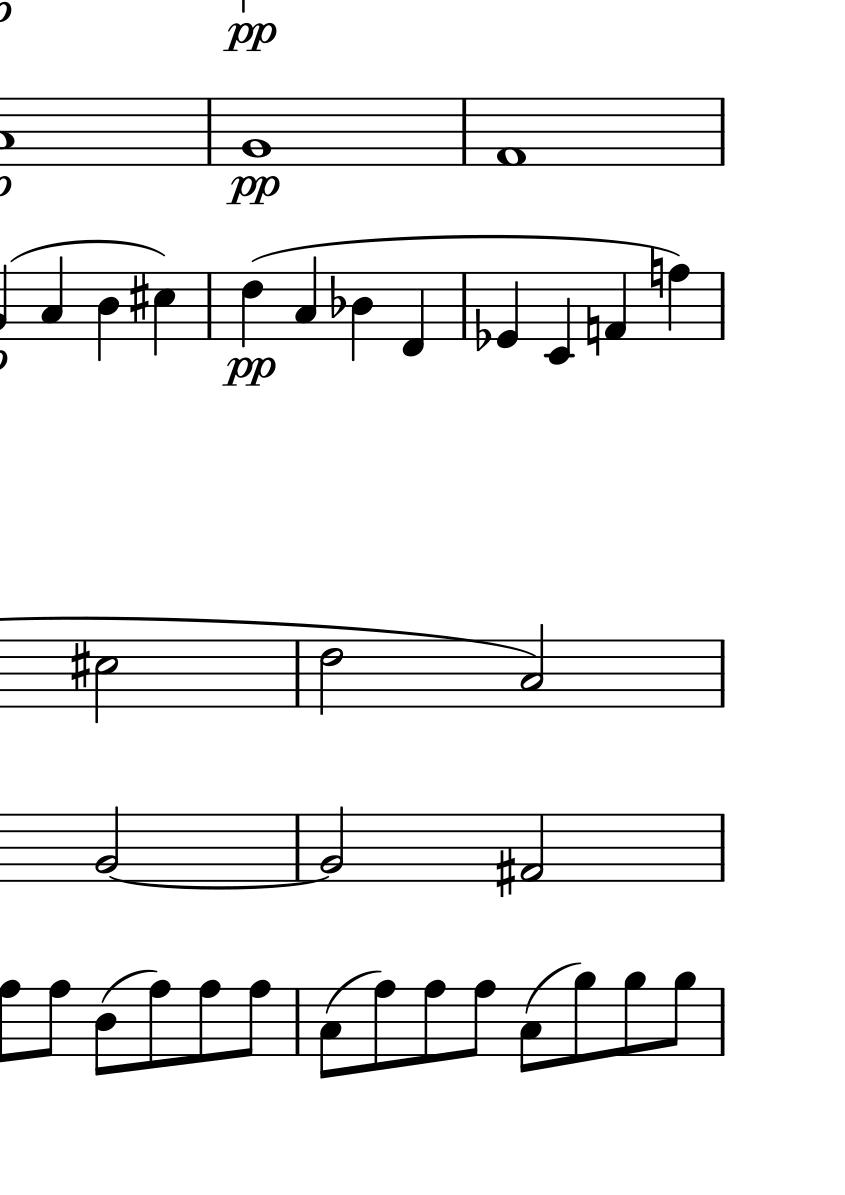1_1: (495, 95, 528, 170)
1_2: (240, 96, 270, 168)
2_1: (518, 812, 546, 883)
2_2: (319, 805, 345, 883), (95, 806, 120, 883)
2_3: (518, 621, 547, 709)
2_5: (92, 638, 117, 726)
2_6: (318, 638, 343, 717)
4_-1: (399, 272, 425, 358)
4_-2: (543, 270, 576, 367)
4_0: (495, 271, 521, 348)
4_1: (603, 270, 631, 342)
4_3: (38, 254, 65, 340), (293, 254, 319, 339)
4_4: (94, 270, 121, 368), (349, 271, 374, 362)
4_5: (151, 270, 176, 360)
4_6: (240, 269, 266, 349)
4_8: (666, 262, 691, 340)
8_3: (316, 988, 343, 1079), (517, 987, 544, 1074)
8_4: (92, 988, 118, 1077)
8_8: (35, 978, 72, 1058), (238, 978, 273, 1059), (463, 979, 496, 1060), (146, 978, 172, 1069), (371, 979, 397, 1070), (196, 978, 223, 1063), (421, 978, 447, 1064)
8_9: (667, 969, 698, 1057), (620, 969, 648, 1055), (572, 970, 598, 1062)
Flat: (325, 271, 346, 322), (472, 308, 493, 352)
Natural: (644, 245, 666, 306), (582, 302, 603, 361)
Sharp: (65, 639, 91, 694), (126, 269, 149, 326), (494, 847, 516, 897)
Single_barline: (711, 639, 732, 708), (453, 98, 474, 165), (711, 814, 732, 880), (199, 98, 219, 166), (711, 98, 731, 165), (711, 272, 731, 339), (201, 272, 219, 340), (289, 640, 307, 707), (289, 987, 306, 1056), (713, 988, 730, 1056), (455, 273, 472, 339), (289, 815, 306, 880)
Slur: (252, 234, 681, 260), (109, 874, 332, 892), (9, 239, 167, 261), (523, 959, 581, 1014), (324, 966, 383, 1013), (100, 965, 158, 1002)
pp: (224, 351, 279, 391), (225, 22, 275, 53), (227, 176, 280, 205)
